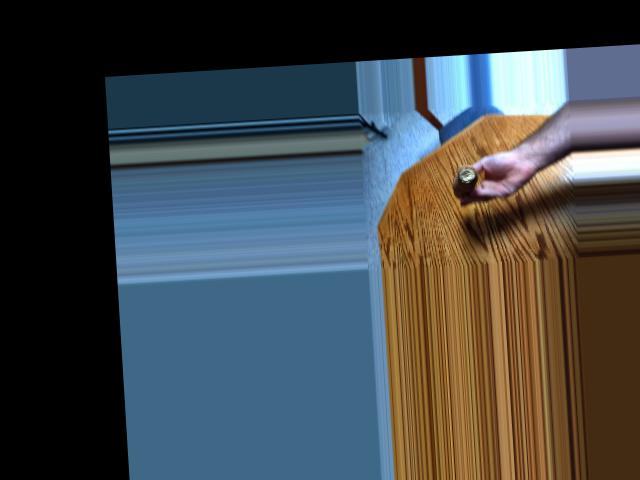sweet_potato: (447, 159, 487, 200)
